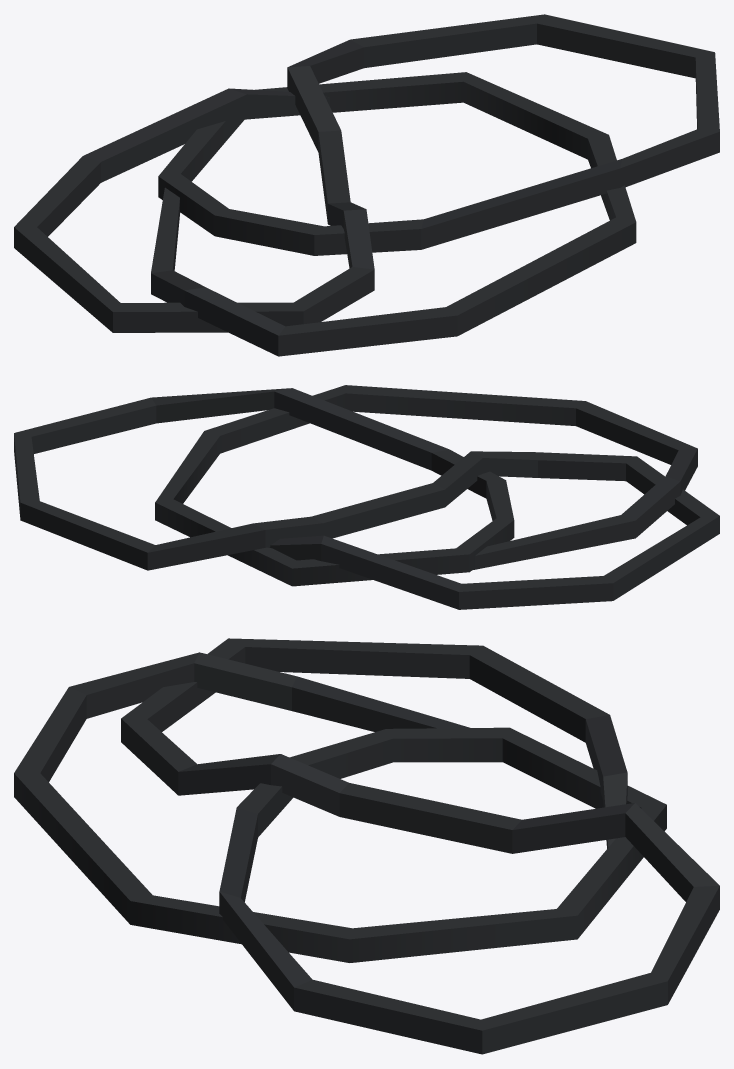
File: SM_Prop_Wire_Ground_01.fbx
3 views of the same model, one above another, from view 1: azimuth 30°, elevation 25°; view 2: azimuth 150°, elevation 25°; view 3: azimuth 270°, elevation 25° (orthographic). The views are drawn at different scales.
Parts seen in each view (by area): view 1: SM_Prop_Wire_Ground_01; view 2: SM_Prop_Wire_Ground_01; view 3: SM_Prop_Wire_Ground_01.
Boxes of the visible parts, <box> form: SM_Prop_Wire_Ground_01: <box>14,14,719,356</box>; SM_Prop_Wire_Ground_01: <box>14,385,719,609</box>; SM_Prop_Wire_Ground_01: <box>14,638,719,1054</box>.
Bounding box in the file's own units: 131 × 8.58 × 98.41.
